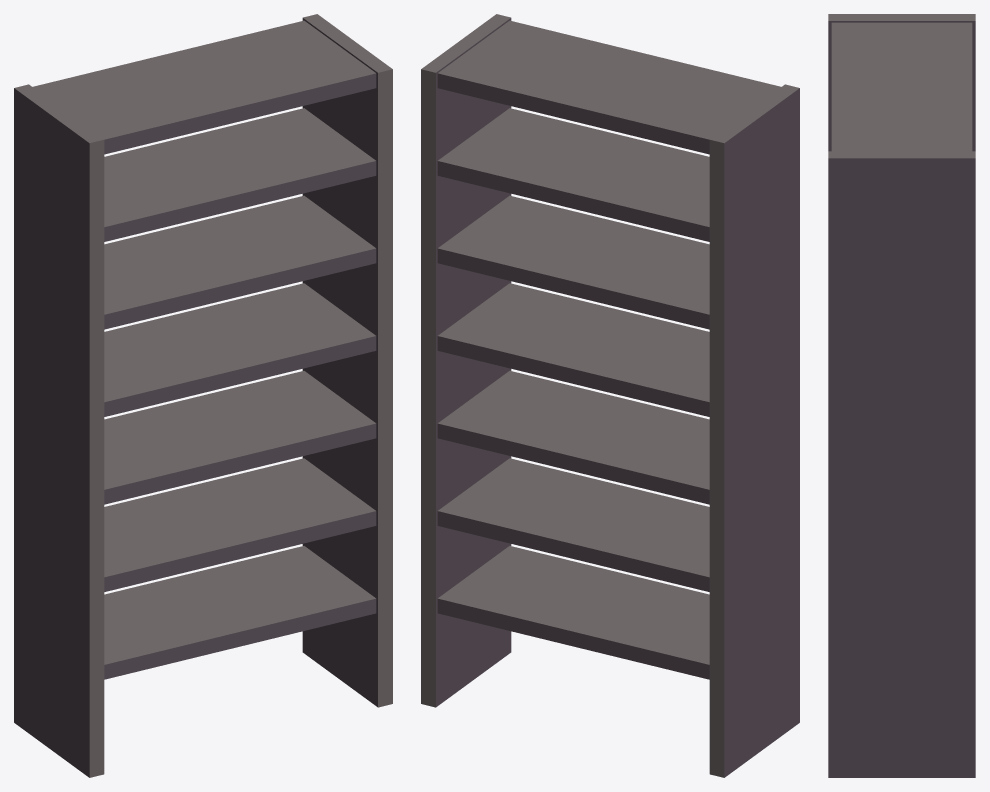
Rendered from Shelves.fbx.
3 views of the same model, side by side, from view 1: azimuth 30°, elevation 25°; view 2: azimuth 150°, elevation 25°; view 3: azimuth 270°, elevation 25° (orthographic). The views are drawn at different scales.
Parts seen in each view (by area): view 1: Shelves; view 2: Shelves; view 3: Shelves.
Part boxes in pixels (<box>): Shelves: <box>14,14,392,777</box>; Shelves: <box>421,14,799,777</box>; Shelves: <box>828,14,975,777</box>.
Bounding box in the file's own units: 212 × 424 × 91.3.
